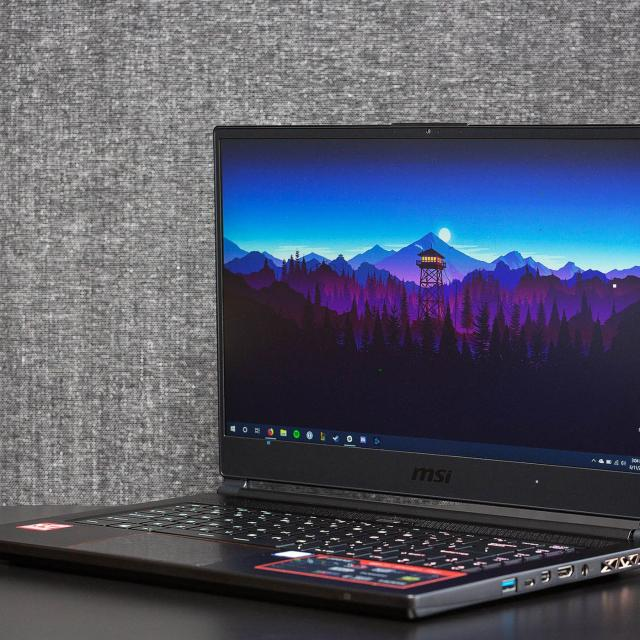dead_pixel: (613, 284, 616, 287), (267, 441, 270, 444), (379, 369, 381, 371), (536, 480, 538, 482), (541, 192, 543, 193), (540, 229, 541, 230)
